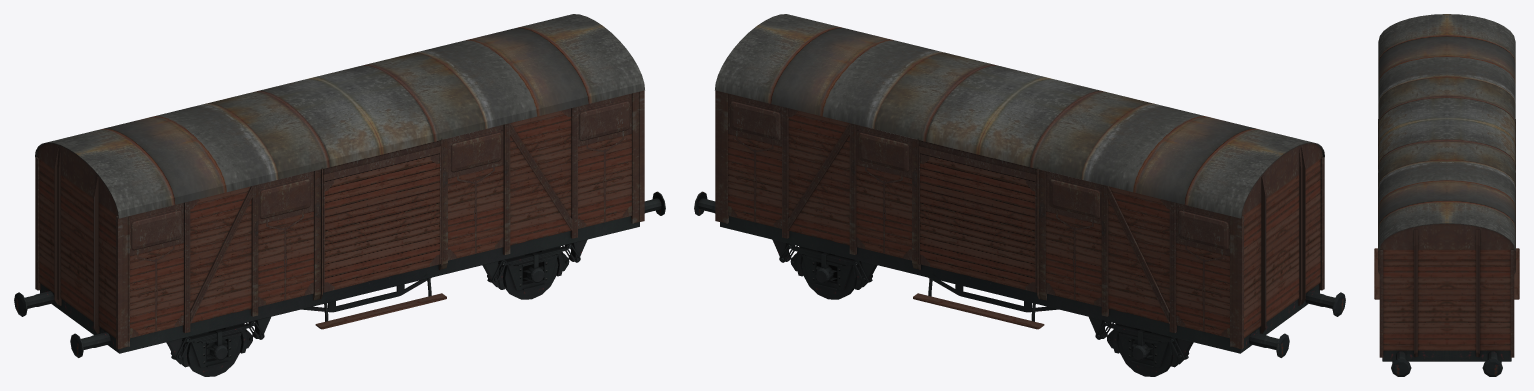
Rendered from boxcar_german.obj.
3 renders of one model, left to right at view 1: azimuth 30°, elevation 25°; view 2: azimuth 150°, elevation 25°; view 3: azimuth 270°, elevation 25°, orthographic. The views are drawn at different scales.
Visible parts, largest first — view 1: boxcar_german_Mesh; view 2: boxcar_german_Mesh; view 3: boxcar_german_Mesh.
Part boxes in pixels (box(x1,y1,x2,y2)): boxcar_german_Mesh: box(14, 14, 665, 376); boxcar_german_Mesh: box(694, 14, 1345, 376); boxcar_german_Mesh: box(1374, 14, 1519, 376).
Bounding box in the file's own units: 8.98 × 3.28 × 2.38.
Materials: 1 (1 with a texture image).
